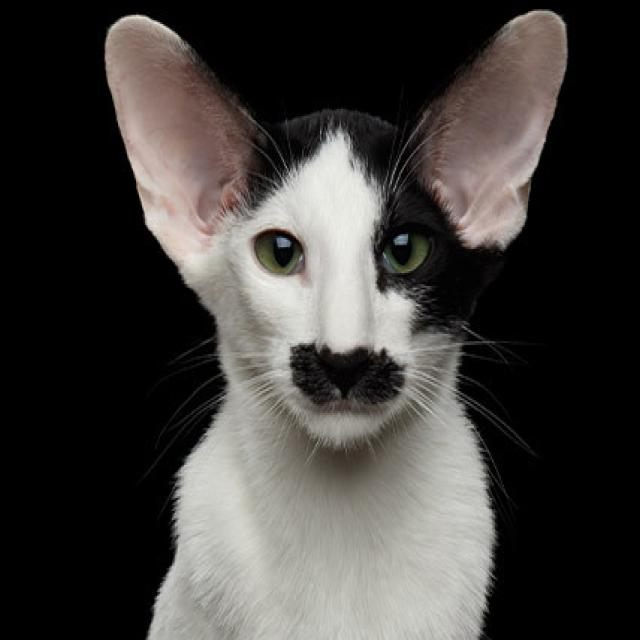Oriental: (101, 3, 571, 640)
